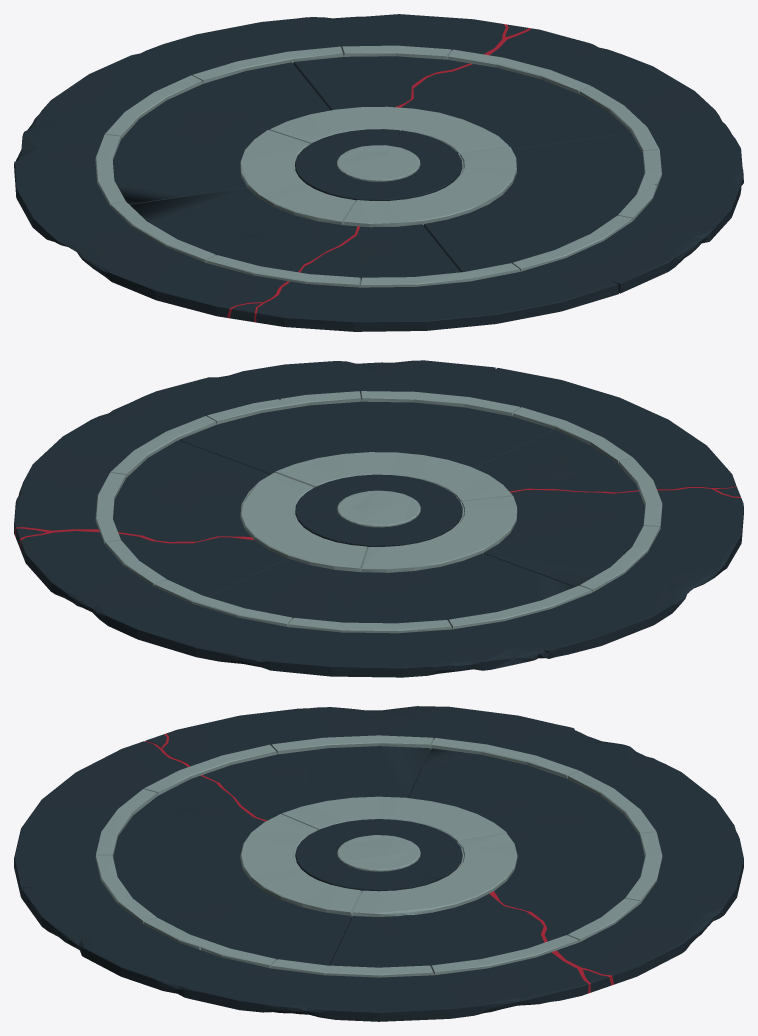
File: Arena_purple_grey.fbx
The picture shows the model from 3 angles, top to bottom: view 1: azimuth 30°, elevation 25°; view 2: azimuth 150°, elevation 25°; view 3: azimuth 270°, elevation 25°; orthographic projection.
Parts seen in each view (by area): view 1: Arena_red_purple; view 2: Arena_red_purple; view 3: Arena_red_purple.
Boxes of the visible parts, bbox=[...] form: Arena_red_purple: bbox=[14, 14, 743, 331]; Arena_red_purple: bbox=[14, 360, 743, 677]; Arena_red_purple: bbox=[14, 706, 743, 1021].
Bounding box in the file's own units: 2113 × 51.58 × 2124.
